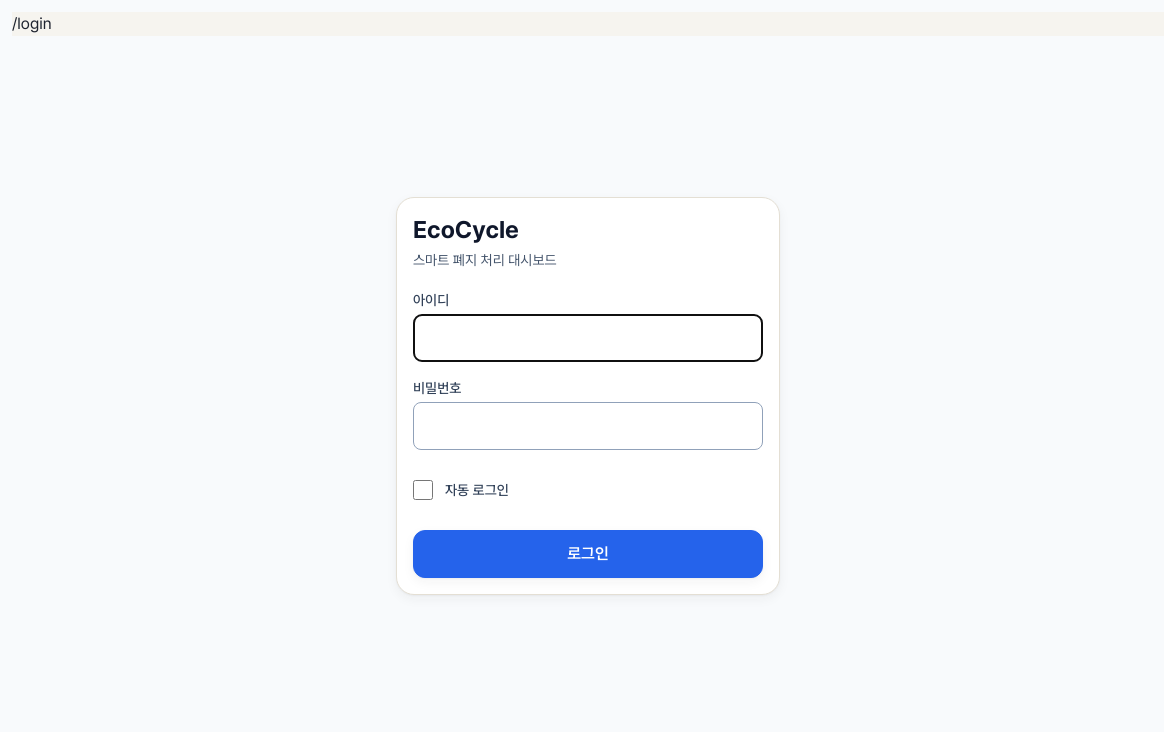
it: LoginPage › 고쳐 쓰기 시작하면 오류 문구가 사라진다
Type "admin" into the field labelled "아이디" at x=588, y=338, box [413,314,763,362]
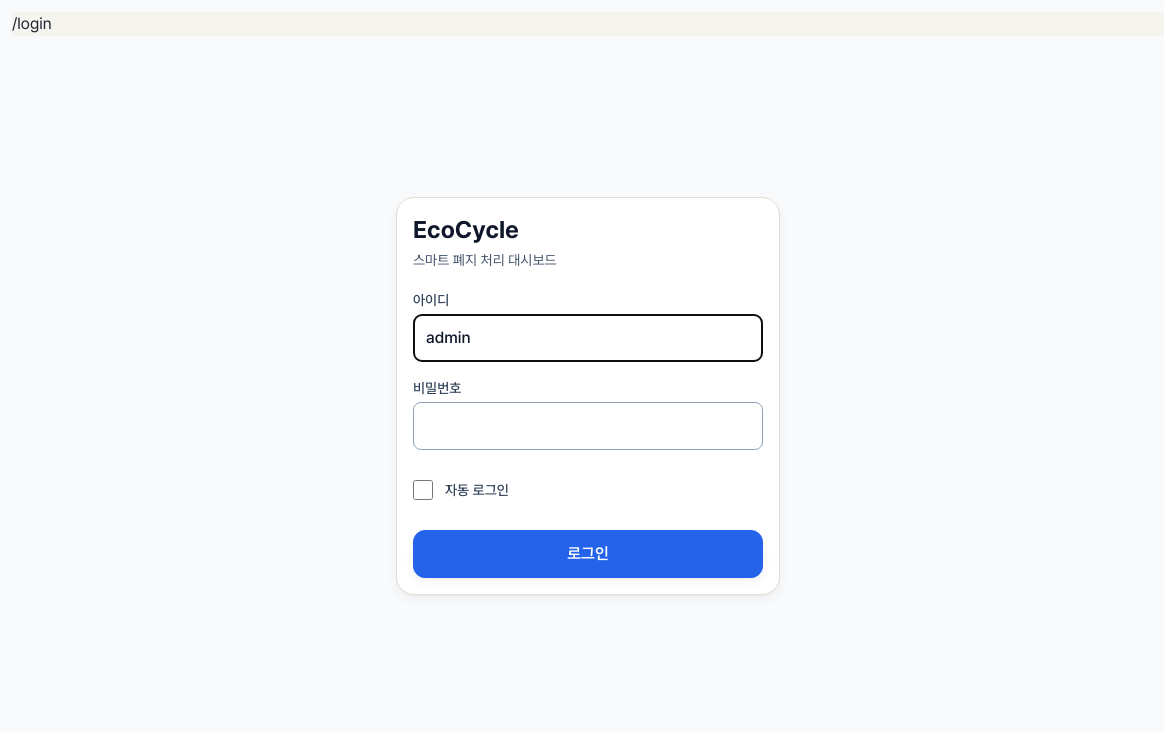
Type "wrong" into the password field labelled "비밀번호" at x=588, y=426, box [413,402,763,450]
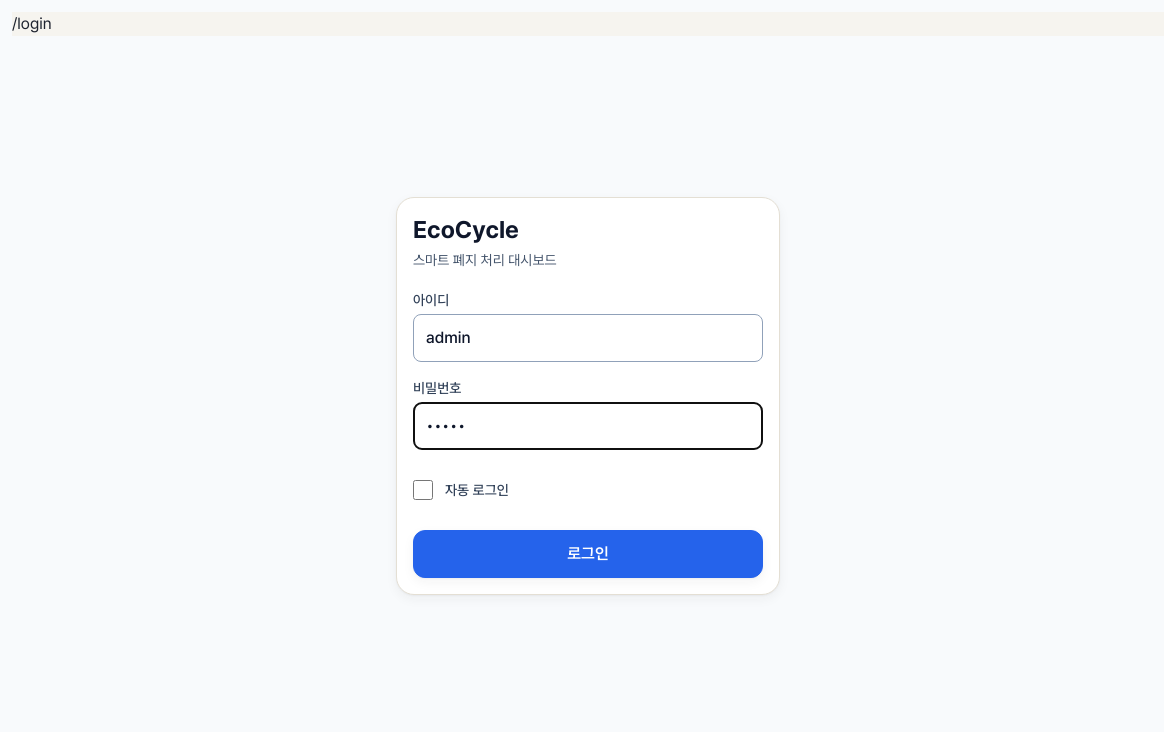
Click the button "로그인" at x=588, y=554, box [413,530,763,578]
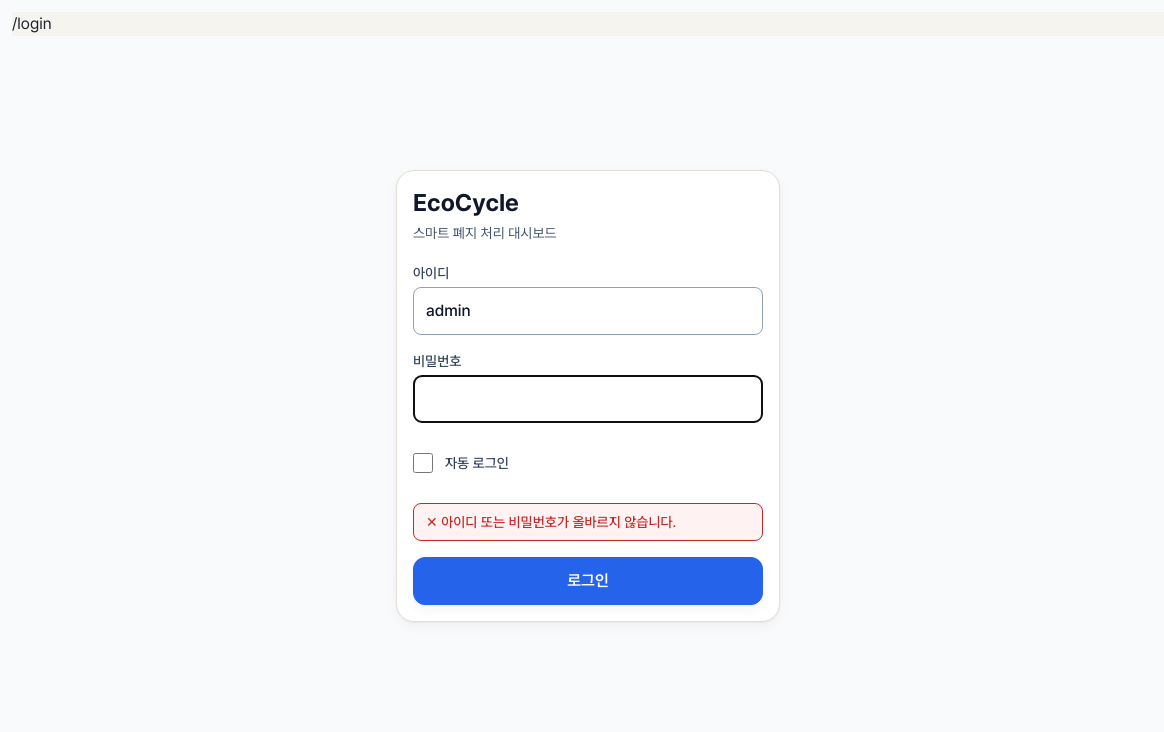
Now the message "✕ 아이디 또는 비밀번호가 올바르지 않습니다." is shown, box [413,503,763,541]
Type "x" into the field labelled "아이디" at x=588, y=311, box [413,287,763,335]
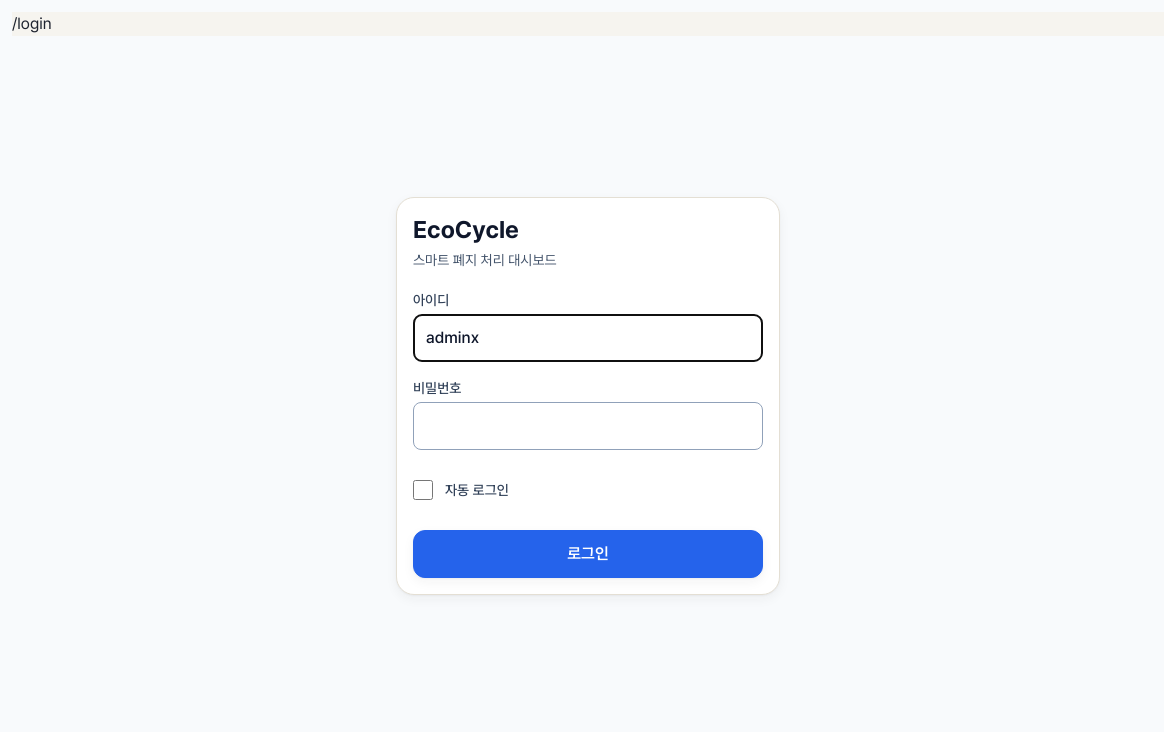
Now the message "✕아이디 또는 비밀번호가 올바르지 않습니다." is gone
